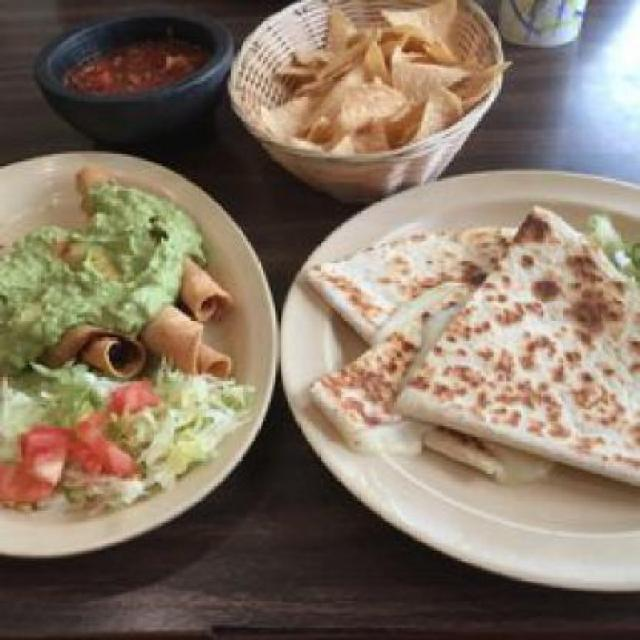chicken quesadilla: (305, 193, 638, 504)
